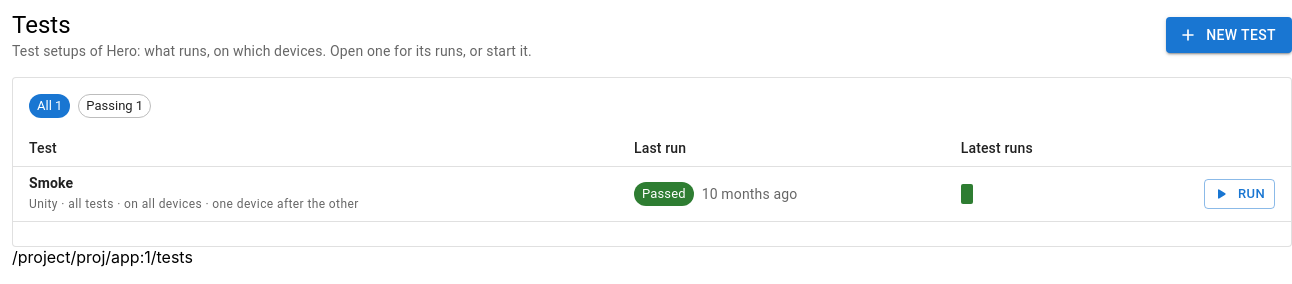
Test: TestsIndexPage › tells the counts and the time of a run in the history tooltip
Hover over the list item named "Run 70: Passed" at (967, 194), box left=961, top=184, right=973, bottom=204
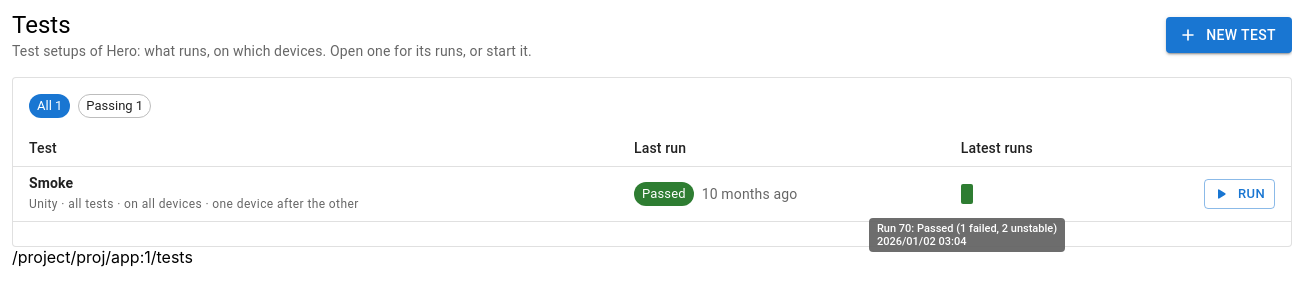
Result: the tooltip shows "Run 70: Passed (1 failed, 2 unstable)2026/01/02" at left=867, top=204, right=1067, bottom=254
